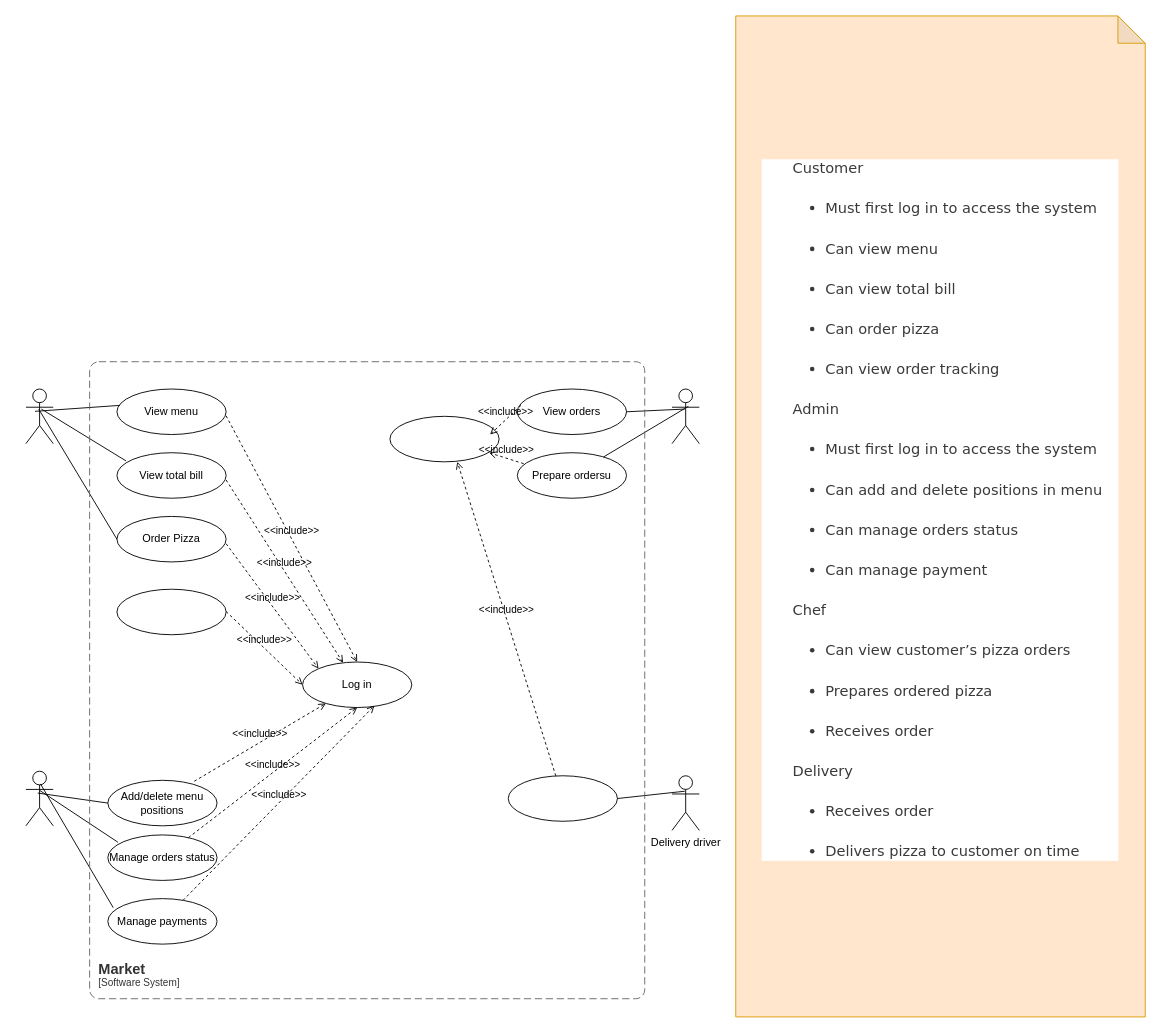
Some shapes in this 1161 by 1033 pixel diagram are drawn without their labels. Here are the shapes that lost their labels. From the top down, the centre of each, then its label:
At (39,416): "Customer".
At (685,416): "Chef".
At (444,438): "Recieve orders".
At (171,611): "View order tracking".
At (39,798): "Admin".
At (562,798): "Pizza delivery".
